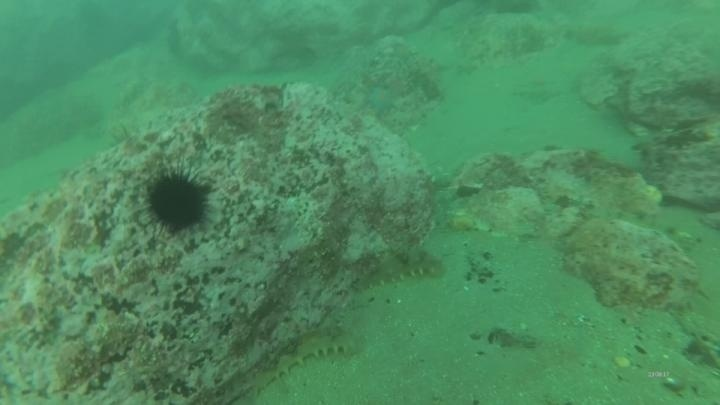echinus: (141, 165, 215, 236)
holothurian: (245, 324, 362, 396), (350, 246, 447, 293)
starfish: (363, 82, 400, 116)
